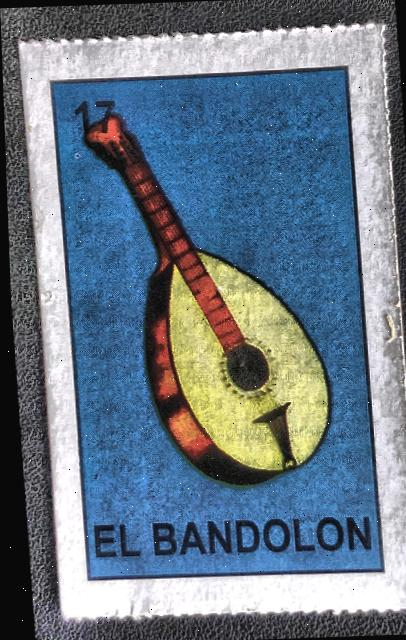El Bandolon: (29, 42, 398, 602)
